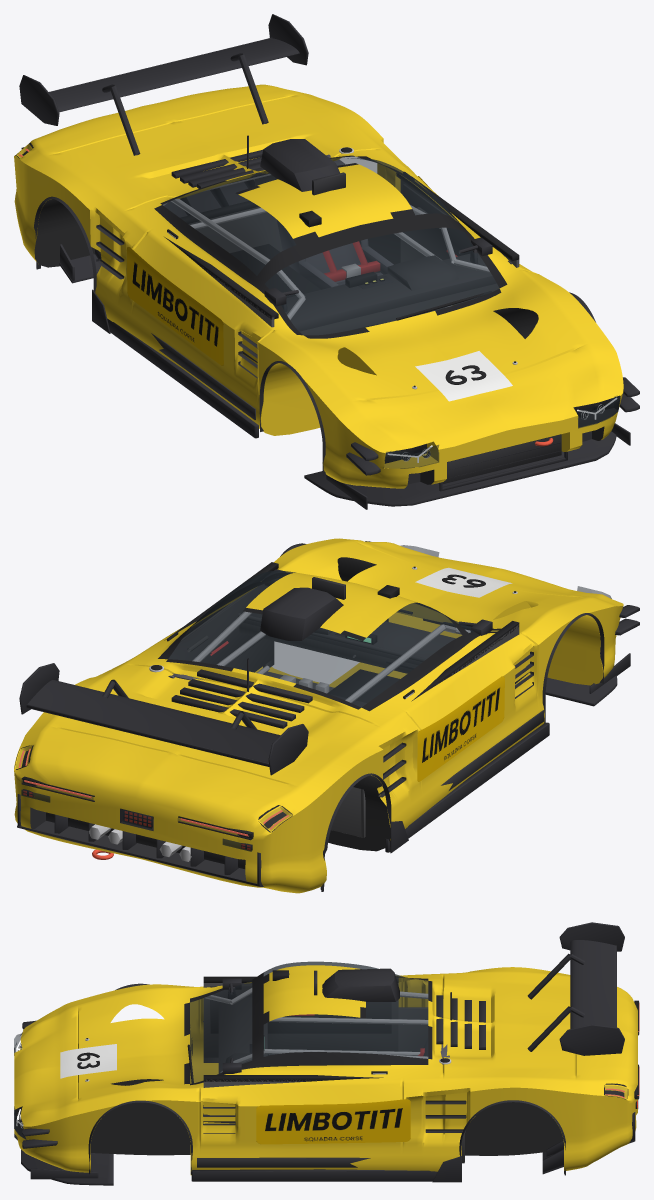
The model's file is limbotiti_caravan.glb.
3 views of the same model, one above another, from view 1: azimuth 30°, elevation 25°; view 2: azimuth 150°, elevation 25°; view 3: azimuth 270°, elevation 25° (orthographic). The views are drawn at different scales.
Parts seen in each view (by area): view 1: limbotiti_caravan; view 2: limbotiti_caravan; view 3: limbotiti_caravan.
Part boxes in pixels (x1=…): limbotiti_caravan: x1=14, y1=14, x2=639, y2=509; limbotiti_caravan: x1=14, y1=538, x2=639, y2=893; limbotiti_caravan: x1=14, y1=922, x2=639, y2=1185.
Size of the model in its own units: 2.15 by 1.25 by 4.63.
26 materials, 1 textured.
